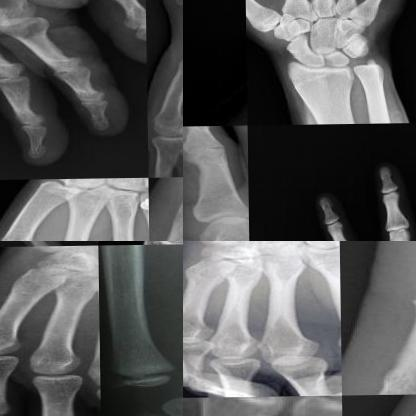fracture: (130, 196, 148, 240)
